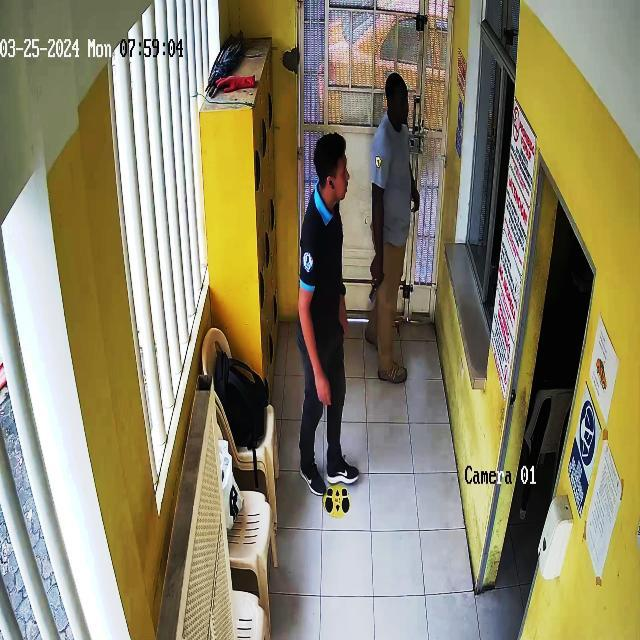Gun: (361, 250, 393, 308)
